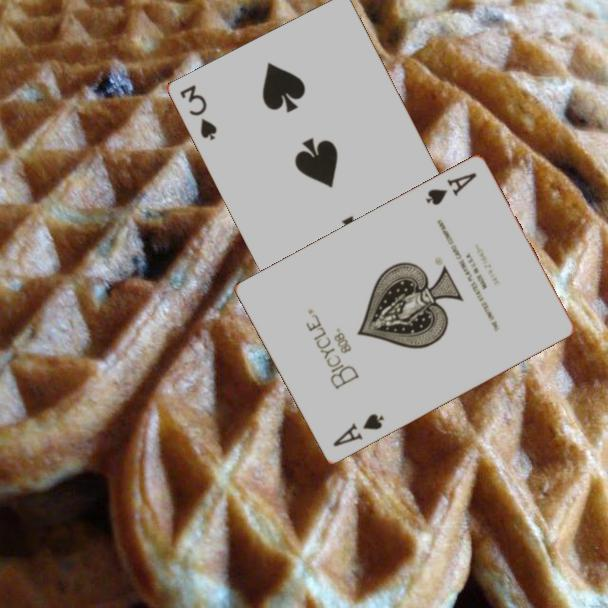s01: (329, 410, 387, 450), (422, 169, 480, 209)
s03: (177, 81, 220, 143)
